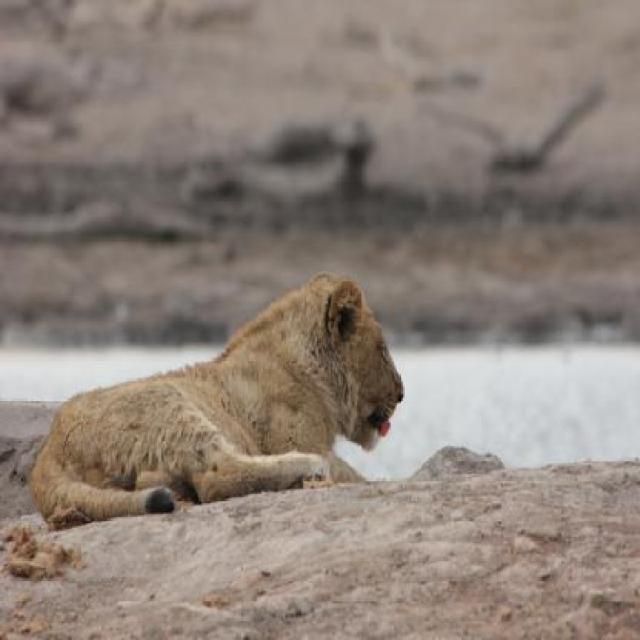Lion: (1, 260, 418, 588)
